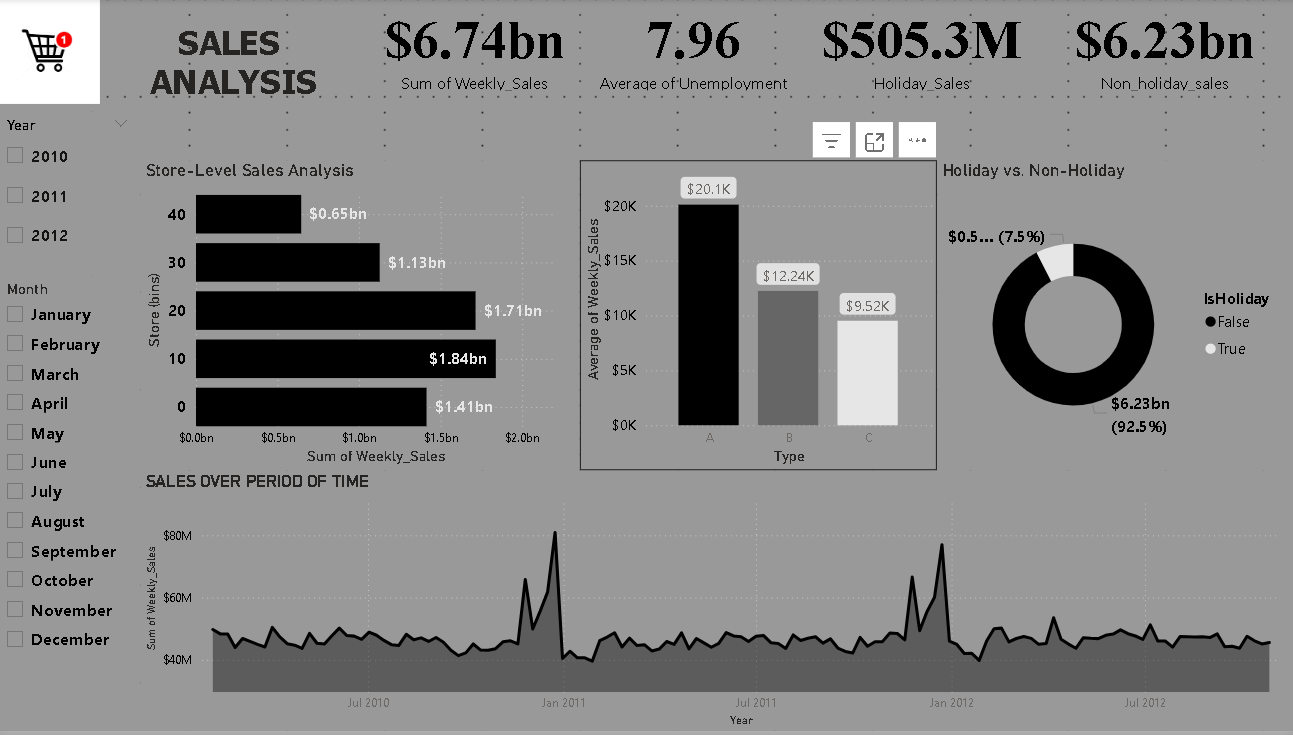

Layout of this report page (visuals, bound fields, positions):
{"tool":"powerbi","page":{"name":"Page 1","canvas":[1280,720],"ordinal":0},"visuals":[{"type":"shape","box":[0,160,432,256],"z":0},{"type":"pivotTable","fields":{"Rows":["Sales.Type"],"Values":["Sales.Holiday","Sales.Non-Holiday","Avg(Sales.Weekly_Sales)"]},"box":[16,176,400,224],"z":1000},{"type":"shape","box":[0,416,432,304],"z":1500},{"type":"clusteredColumnChart","title":"Average Sales by Store Type","fields":{"Y":["Avg(Sales.Weekly_Sales)"],"Category":["Sales.Type"],"Series":["Sales.IsHoliday"]},"box":[16,432,400,256],"z":2000},{"type":"shape","box":[432,160,416,256],"z":3000},{"type":"columnChart","fields":{"Category":["Sales.Store"],"Y":["Sum(Sales.Weekly_Sales)"]},"box":[448,192,384,192],"z":4000},{"type":"shape","box":[848,160,432,256],"z":4500},{"type":"shape","box":[432,416,416,304],"z":4750},{"type":"clusteredBarChart","title":"Yearly Sales","fields":{"Category":["Sales.Date.Variation.Date Hierarchy.Year","Sales.Date.Variation.Date Hierarchy.Quarter"],"Y":["Sum(Sales.Weekly_Sales)","Sales.Holiday","Sales.Non-Holiday"]},"box":[448,432,384,272],"z":5000},{"type":"shape","box":[848,416,432,304],"z":5500},{"type":"pieChart","title":"Sales Distribution (Holiday ~ Non-Holiday)","fields":{"Y":["Sales.Non-Holiday","Sales.Holiday"]},"box":[864,432,400,272],"z":6000},{"type":"stackedAreaChart","title":"Sales Performance By Quarter ","fields":{"Y":["Sum(Sales.Weekly_Sales)"],"Category":["Sales.Date"]},"box":[864,192,400,192],"z":9000},{"type":"shape","box":[384,0,896,144],"z":9500},{"type":"card","fields":{"Values":["Sales.Non-Holiday"]},"box":[688,16,256,112],"z":9625},{"type":"card","fields":{"Values":["Sales.Holiday"]},"box":[400,16,256,112],"z":9750},{"type":"card","fields":{"Values":["Sum(Sales.Weekly_Sales)"]},"box":[992,16,272,112],"z":10000},{"type":"textbox","box":[16,48,320,80],"z":11000}]}

Visuals, with their boxes in screenshot pixels (x1, y1, x2, y2), scaled from the page's 1280x720 canvas onto the 1293x735 screenshot:
shape: (0,163,436,425)
pivotTable - Sales.Type x Sales.Holiday: (16,180,420,408)
shape: (0,425,436,734)
"Average Sales by Store Type" clusteredColumnChart: (16,441,420,702)
shape: (436,163,857,425)
columnChart - Sales.Store x Sum(Sales.Weekly_Sales): (453,196,840,392)
shape: (857,163,1292,425)
shape: (436,425,857,734)
"Yearly Sales" clusteredBarChart: (453,441,840,719)
shape: (857,425,1292,734)
"Sales Distribution (Holiday ~ Non-Holiday)" pieChart: (873,441,1277,719)
"Sales Performance By Quarter " stackedAreaChart: (873,196,1277,392)
shape: (388,0,1292,147)
card - Sales.Non-Holiday: (695,16,954,131)
card - Sales.Holiday: (404,16,663,131)
card - Sum(Sales.Weekly_Sales): (1002,16,1277,131)
textbox: (16,49,339,131)
